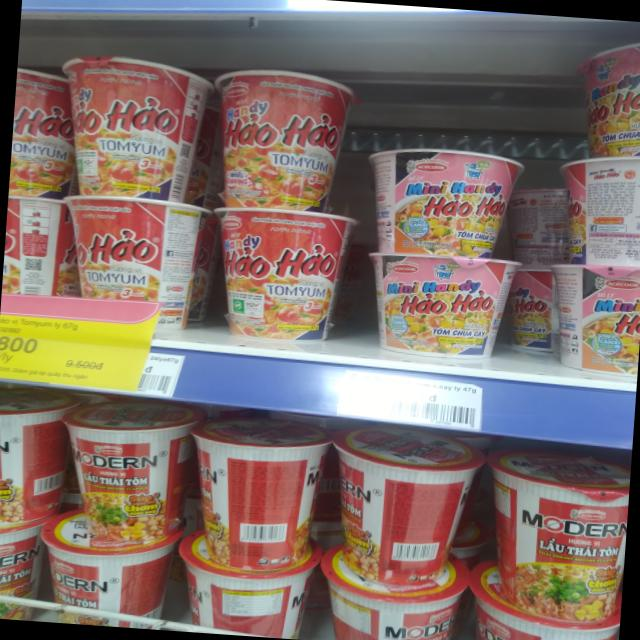mi hao hao: (340, 237, 548, 378), (355, 132, 527, 267)
